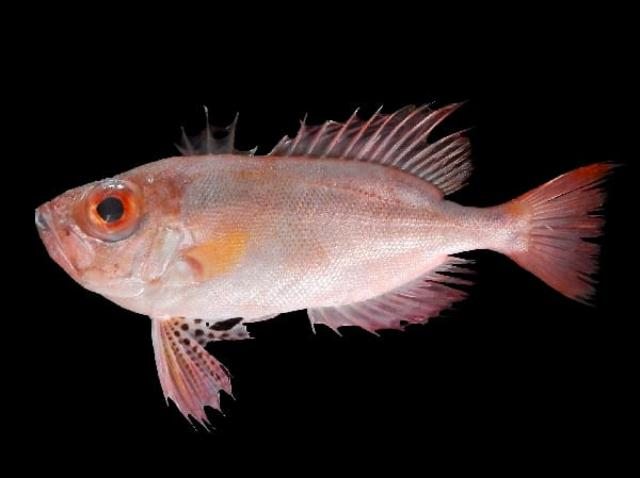Mulut: (22, 184, 68, 256)
Sirip Anal: (312, 254, 474, 342)
Sirip Dada: (172, 228, 254, 288)
Sirip Ekor: (504, 154, 622, 312)
Sirip Perut: (150, 312, 260, 432)
Sirip Punggung: (181, 92, 474, 202)
